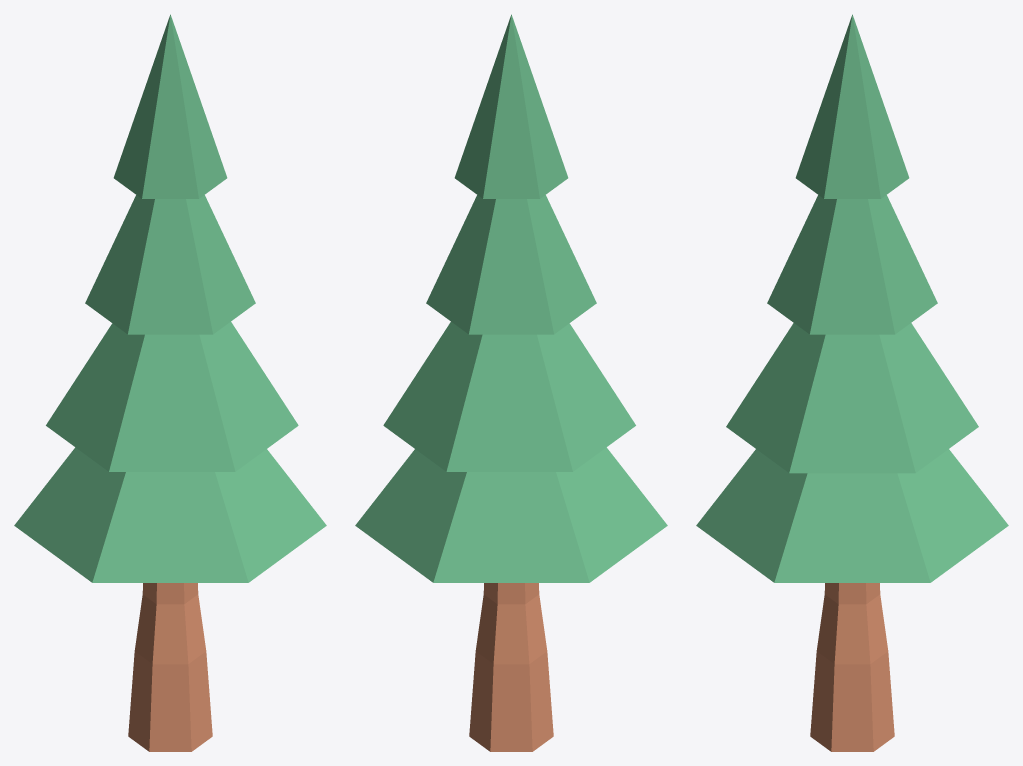
The model's file is Pine_2.obj.
3 renders of one model, left to right at view 1: azimuth 30°, elevation 25°; view 2: azimuth 150°, elevation 25°; view 3: azimuth 270°, elevation 25°, orthographic.
Visible parts, largest first — view 1: Pine_2; view 2: Pine_2; view 3: Pine_2.
Boxes of the visible parts, left/top/right/bottom form: Pine_2: left=14, top=14, right=326, bottom=751; Pine_2: left=355, top=14, right=667, bottom=751; Pine_2: left=696, top=14, right=1008, bottom=751.
Bounding box in the file's own units: 3.75 × 11.02 × 4.33.
